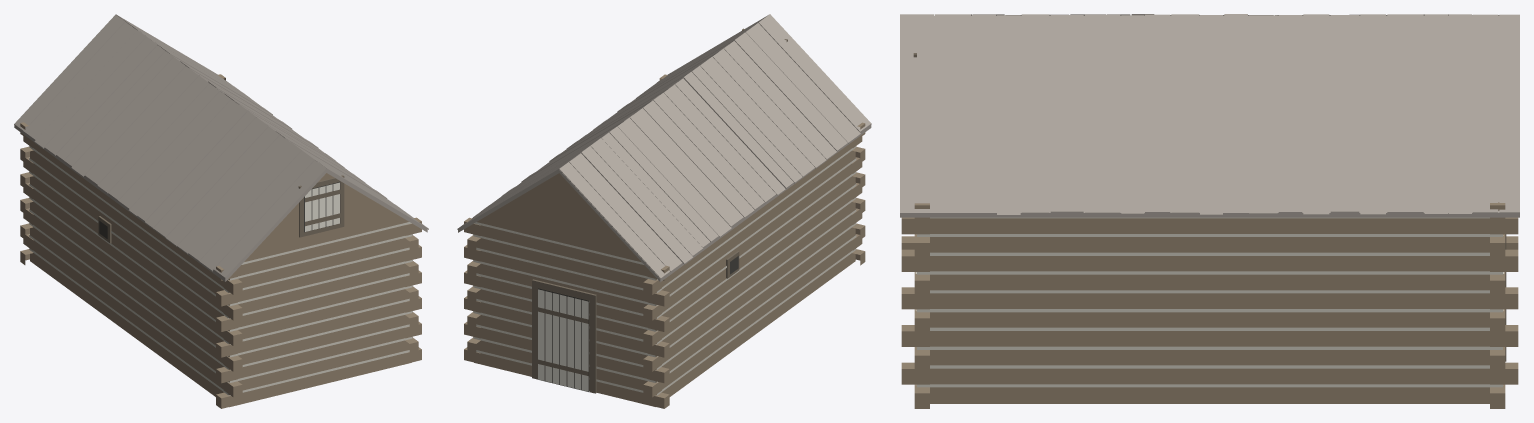
The model's file is recon_1835_blk_randolph_franklin_a1_07__inferred_1835.glb.
3 renders of one model, left to right at view 1: azimuth 30°, elevation 25°; view 2: azimuth 150°, elevation 25°; view 3: azimuth 270°, elevation 25°, orthographic. The views are drawn at different scales.
Parts seen in each view (by area): view 1: recon_1835_blk_randolph_franklin_a1_07__inferred_1835; view 2: recon_1835_blk_randolph_franklin_a1_07__inferred_1835; view 3: recon_1835_blk_randolph_franklin_a1_07__inferred_1835.
Part boxes in pixels (left/top/right/bottom): recon_1835_blk_randolph_franklin_a1_07__inferred_1835: left=14, top=14, right=428, bottom=408; recon_1835_blk_randolph_franklin_a1_07__inferred_1835: left=457, top=14, right=871, bottom=408; recon_1835_blk_randolph_franklin_a1_07__inferred_1835: left=900, top=14, right=1519, bottom=408.
Bounding box in the file's own units: 5.42 × 5.55 × 9.6.
